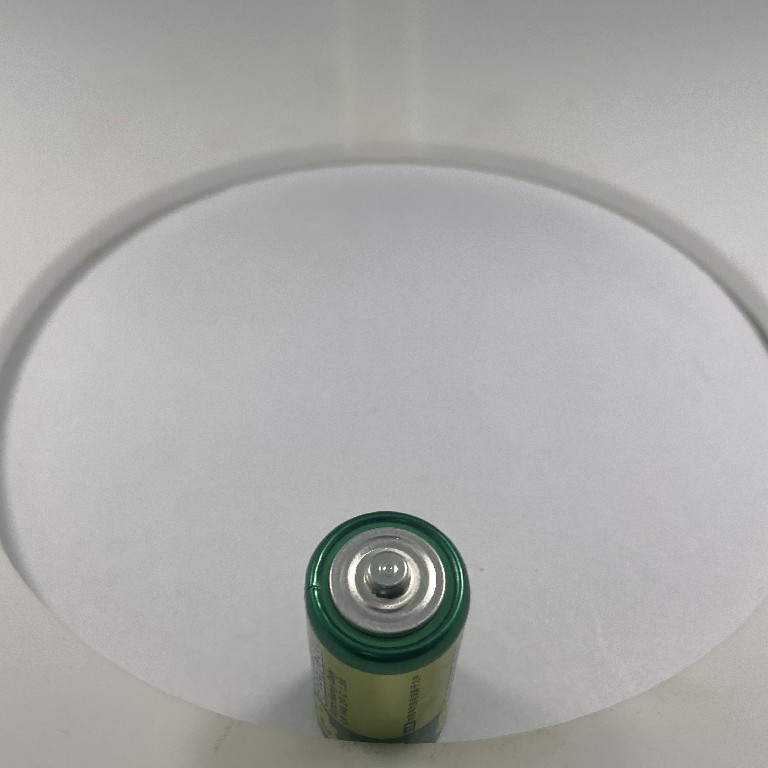charge: (300, 506, 473, 747)
